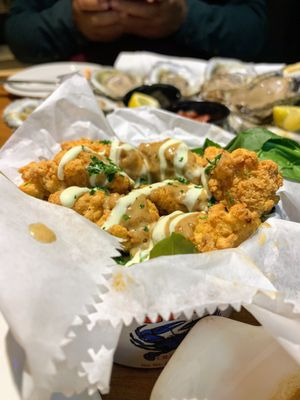pizza: (2, 0, 273, 67)
